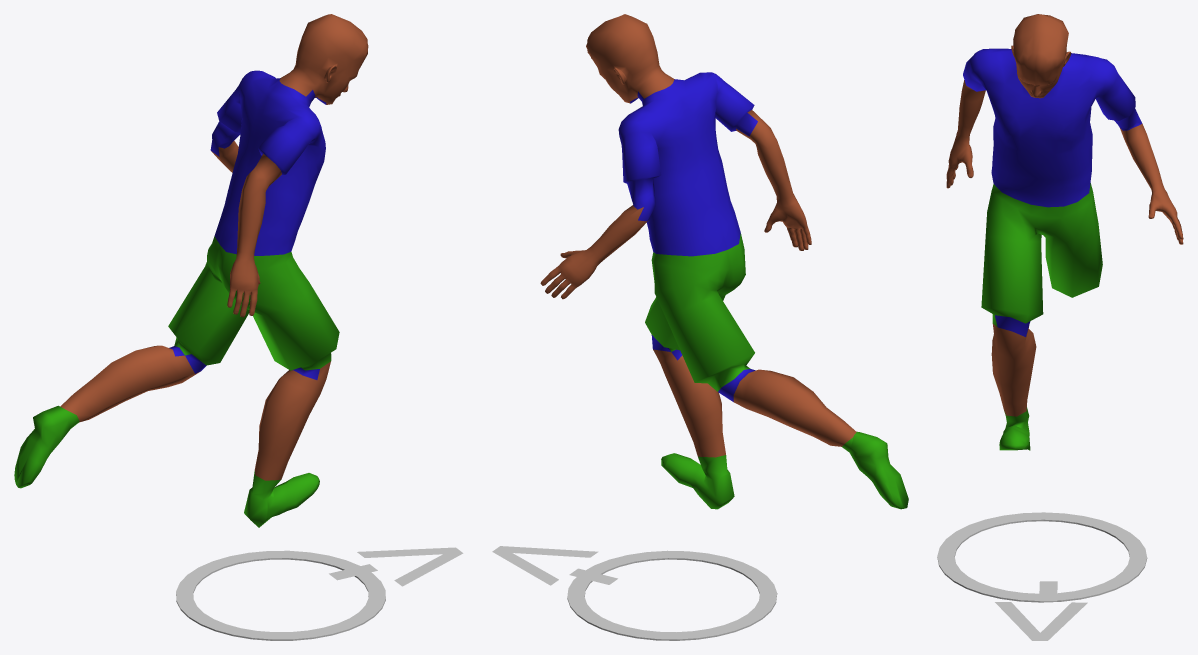
File: playerAI_000002.obj
The picture shows the model from 3 angles, left to right: view 1: azimuth 30°, elevation 25°; view 2: azimuth 150°, elevation 25°; view 3: azimuth 270°, elevation 25°; orthographic projection.
Visible parts, largest first — view 1: soccerplayer.003_mesh.002, Circle.001, Text_Mesh; view 2: soccerplayer.003_mesh.002, Circle.001, Text_Mesh; view 3: soccerplayer.003_mesh.002, Circle.001, Text_Mesh.
Part boxes in pixels (x1,y1,x2,y2): soccerplayer.003_mesh.002: [14, 14, 368, 527]; Circle.001: [176, 550, 385, 640]; Text_Mesh: [329, 547, 463, 586]; soccerplayer.003_mesh.002: [540, 14, 908, 509]; Circle.001: [567, 550, 777, 640]; Text_Mesh: [492, 546, 617, 585]; soccerplayer.003_mesh.002: [946, 14, 1183, 450]; Circle.001: [937, 512, 1147, 602]; Text_Mesh: [995, 581, 1087, 640].
Bounding box in the file's own units: 2.55 × 3.25 × 1.28.
